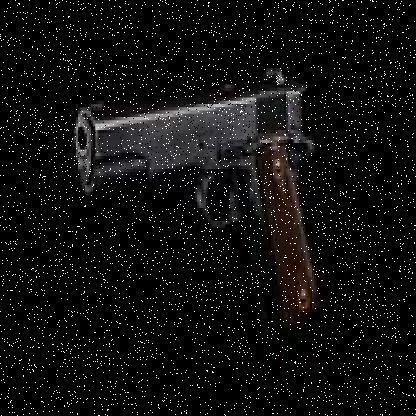pistol: (74, 68, 319, 334)
